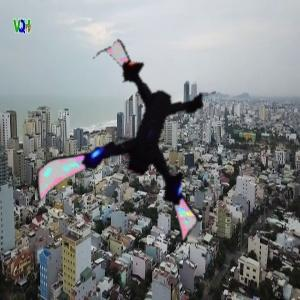drone: (49, 61, 238, 250)
